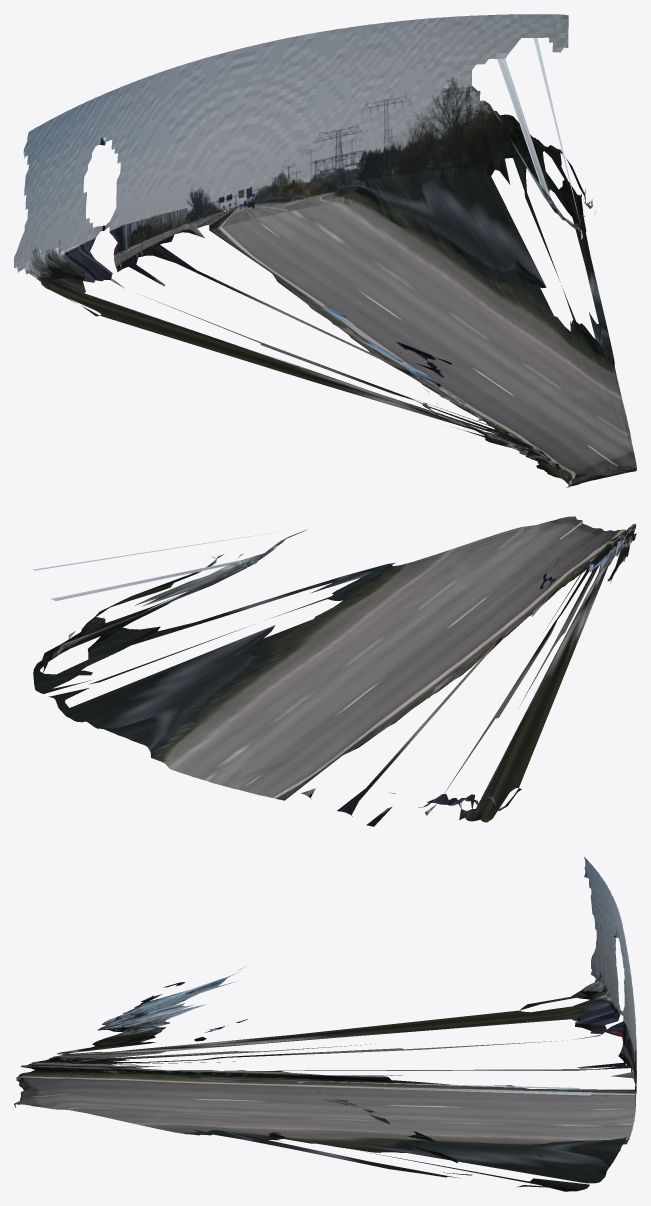
The picture shows the model from 3 angles, top to bottom: view 1: azimuth 30°, elevation 25°; view 2: azimuth 150°, elevation 25°; view 3: azimuth 270°, elevation 25°; orthographic projection. The views are drawn at different scales.
Parts seen in each view (by area): view 1: defaultobject; view 2: defaultobject; view 3: defaultobject.
Part boxes in pixels (<box>): defaultobject: <box>14,14,636,487</box>; defaultobject: <box>33,516,636,826</box>; defaultobject: <box>14,857,636,1191</box>.
Bounding box in the file's own units: 38.08 × 12.93 × 44.59.
Materials: 1 (1 with a texture image).
